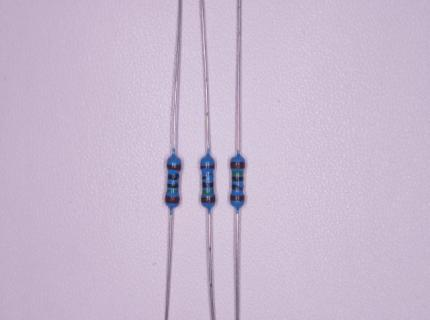Black band: (232, 184, 243, 191), (202, 182, 214, 188), (167, 174, 179, 180), (167, 183, 179, 189), (232, 176, 243, 181), (202, 176, 214, 180)
Brown band: (165, 195, 180, 204), (167, 164, 182, 171), (230, 162, 245, 169), (230, 195, 245, 202), (201, 197, 216, 203), (200, 164, 215, 169)
Green band: (202, 190, 214, 194), (232, 171, 243, 175), (167, 190, 178, 193)
